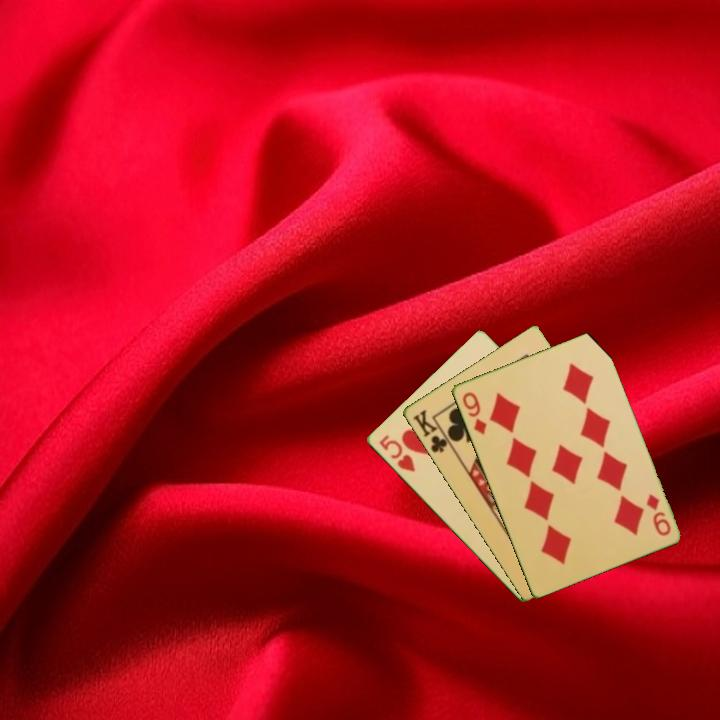5h: (375, 431, 418, 475)
9d: (642, 490, 674, 539), (458, 388, 489, 438)
Kc: (409, 406, 455, 456)
